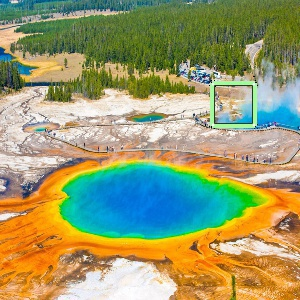square: (208, 80, 258, 131)
